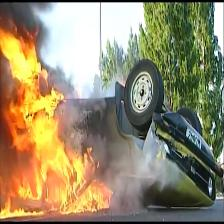fire: (0, 28, 118, 220)
smoke: (106, 101, 190, 214), (0, 1, 86, 52)
